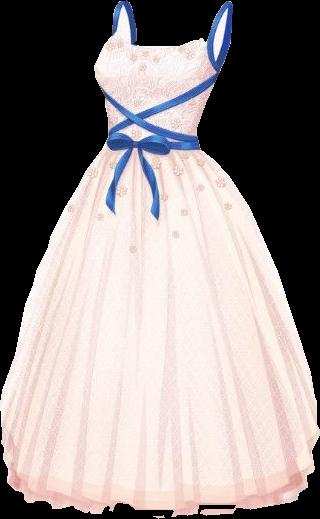Bodice: (94, 0, 232, 151)
Hemline: (0, 415, 319, 518)
Neckline: (113, 0, 233, 50)
Skirt: (0, 149, 319, 516)
Waistline: (101, 144, 201, 155)
